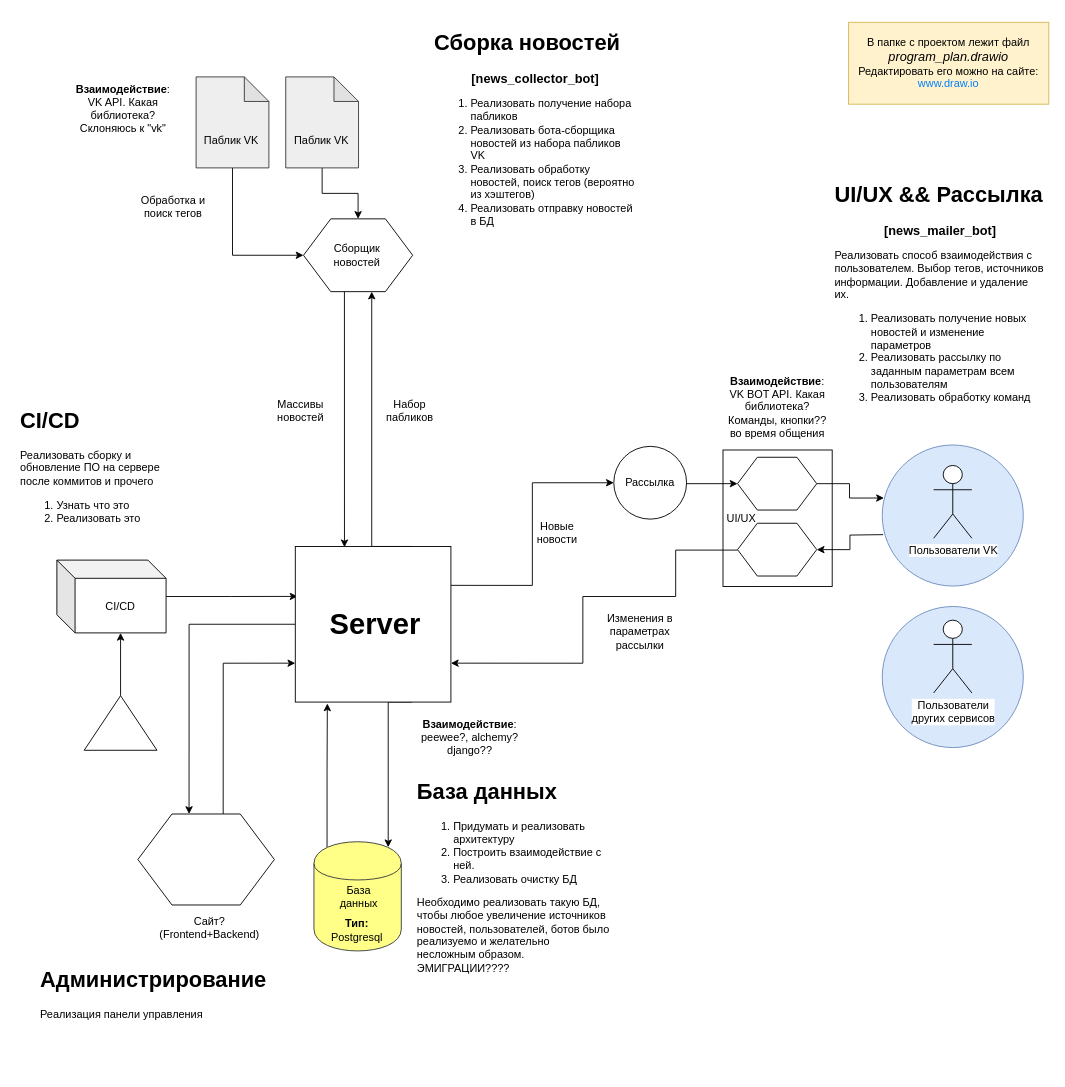
The diagram is 1065 pixels wide and 1087 high, and some of its shapes have lost their labels. The shapes that lost their labels are listed below. From the top down, each one's centre as x and y in pixels, then its label:
At point (777, 483): "Типизи-рованная рассылка".
At point (777, 549): "Обработка команд".
At point (120, 722): "GIT".
At point (205, 859): "Администрирование системы".
